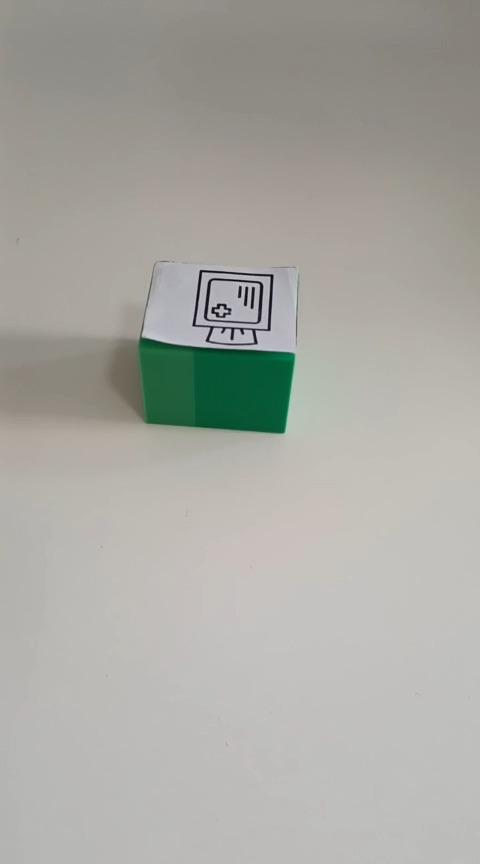Gauze: (137, 258, 299, 434)
